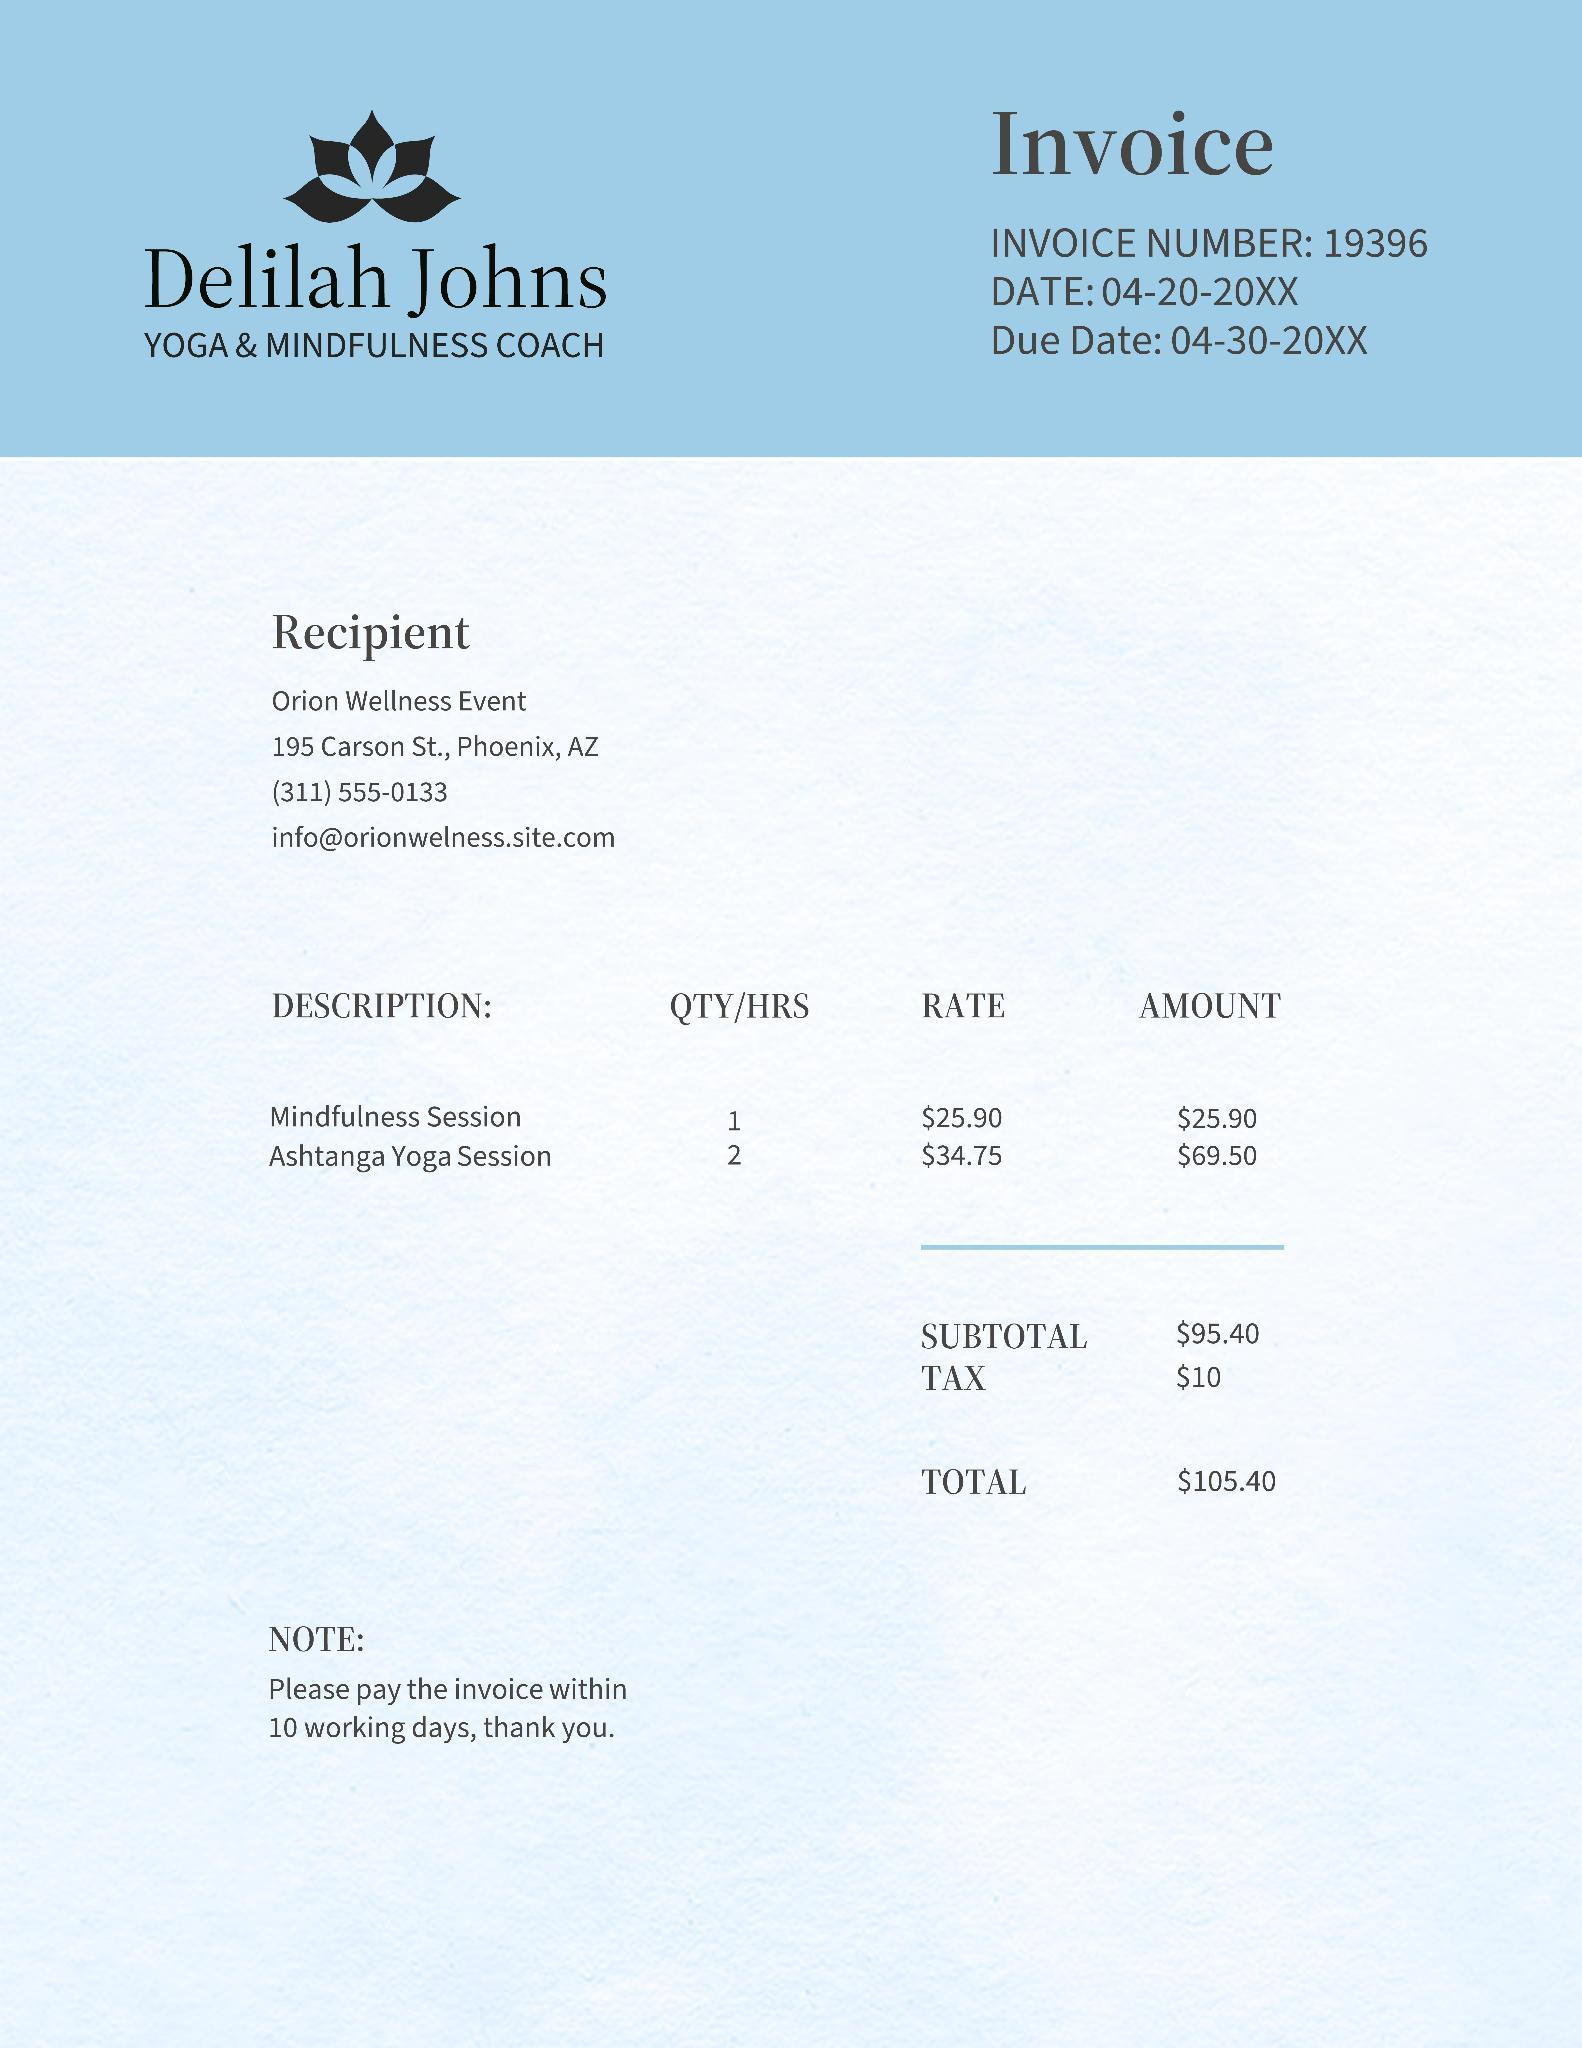ROI: (153, 933, 1347, 1257), (79, 22, 699, 421), (859, 18, 1476, 404), (153, 523, 743, 883), (190, 1573, 740, 1831), (884, 1286, 1342, 1547)
